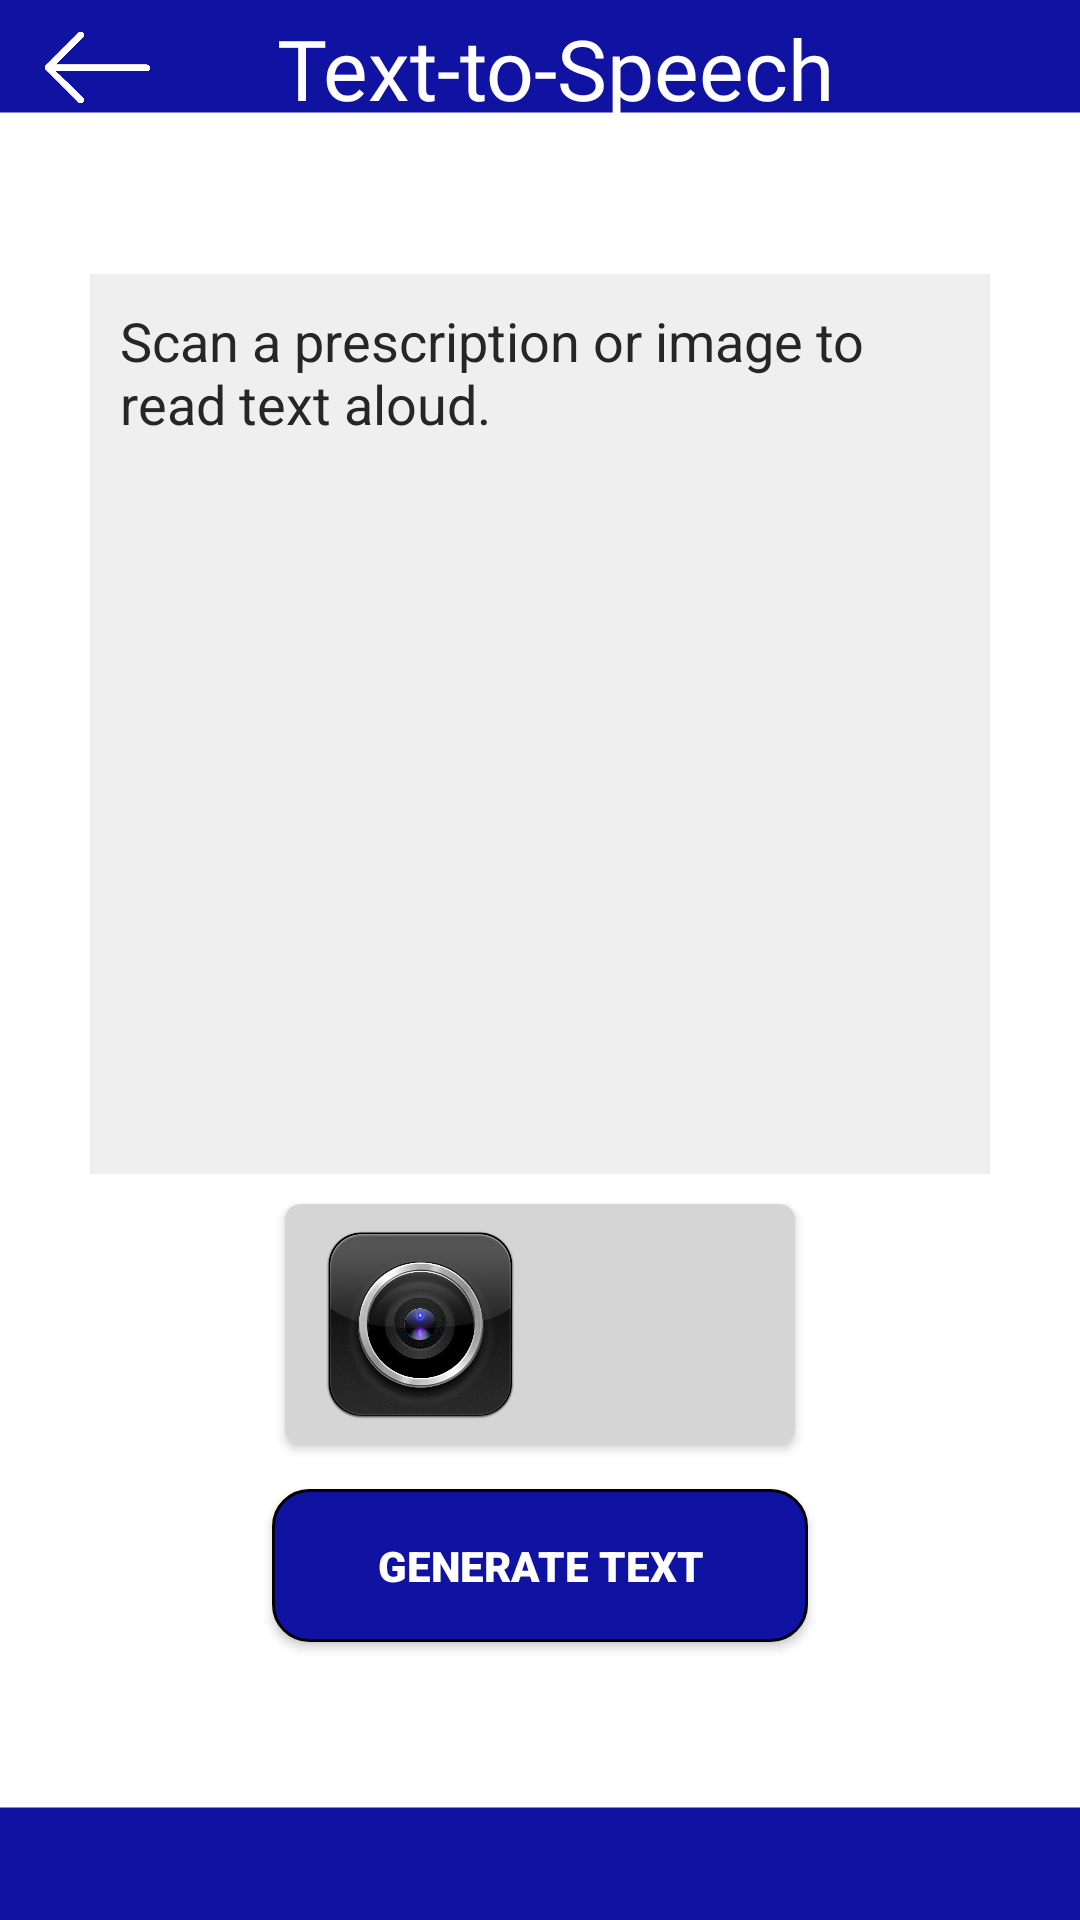

Screen size 1080px x 1920px. Icon name, then its box in pixels as (x1, y1, x2, y2):
back: (45, 32, 150, 103)
camera: (327, 1232, 514, 1418)
